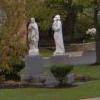Statue: (22, 13, 70, 61)
